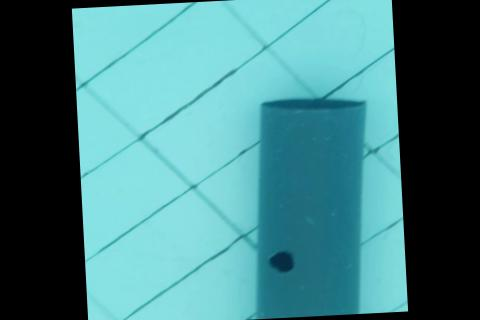kebocoran: (265, 248, 296, 273)
